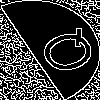Q: (25, 25, 100, 82)
